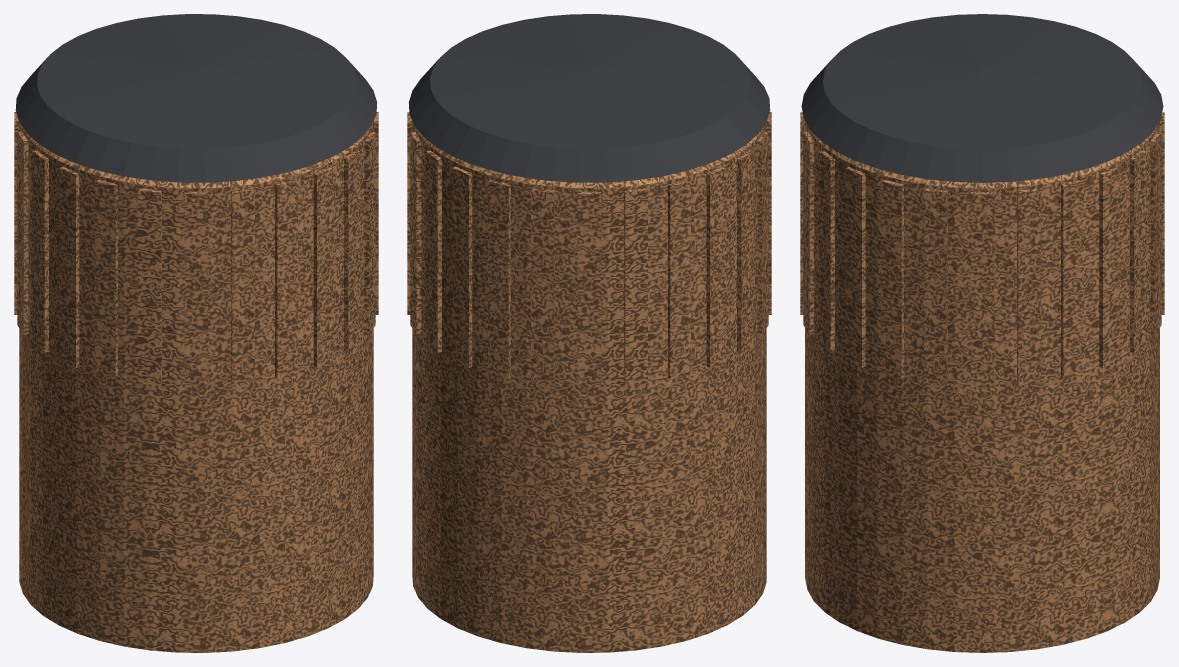
3 renders of one model, left to right at view 1: azimuth 30°, elevation 25°; view 2: azimuth 150°, elevation 25°; view 3: azimuth 270°, elevation 25°, orthographic.
Visible parts, largest first — view 1: aboveGroundHeight=1.2;bodyDepth=1.5;bodyLength=1.8;bodyWidth (×2); view 2: aboveGroundHeight=1.2;bodyDepth=1.5;bodyLength=1.8;bodyWidth (×2); view 3: aboveGroundHeight=1.2;bodyDepth=1.5;bodyLength=1.8;bodyWidth (×2).
Boxes of the visible parts, x1=… form: aboveGroundHeight=1.2;bodyDepth=1.5;bodyLength=1.8;bodyWidth (×2): x1=14, y1=14, x2=378, y2=652; aboveGroundHeight=1.2;bodyDepth=1.5;bodyLength=1.8;bodyWidth (×2): x1=407, y1=14, x2=771, y2=652; aboveGroundHeight=1.2;bodyDepth=1.5;bodyLength=1.8;bodyWidth (×2): x1=800, y1=14, x2=1164, y2=652.
Bounding box in the file's own units: 1.85 × 1.85 × 2.84.
Materials: 2 (1 with a texture image).
